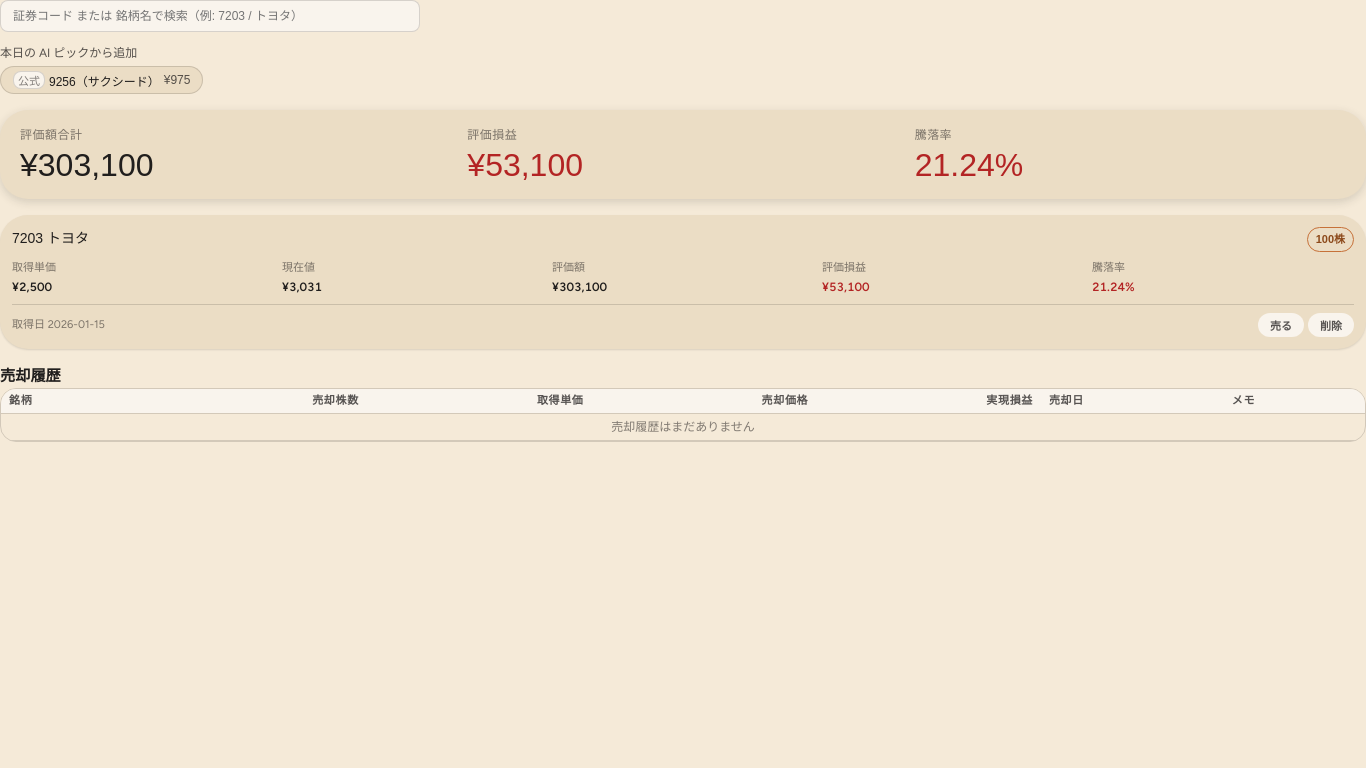
Test: PortfolioOverview › AIピックから選択すると推奨買値を取得単価の初期値にしたポップアップを開く
Step 1. Click the button "公式 9256（サクシード） ¥975" → [102, 80], box x1=0 y1=66 x2=203 y2=94
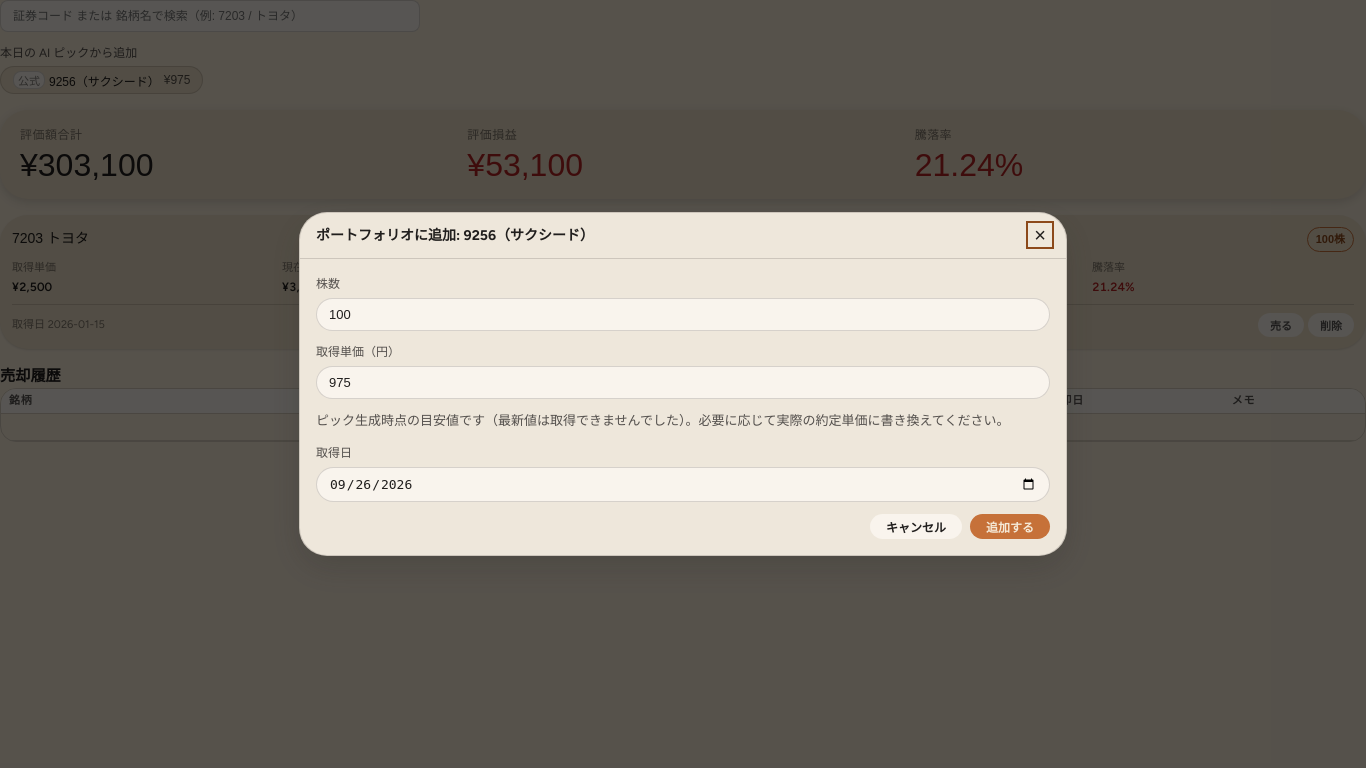
Result: the heading "ポートフォリオに追加: 9256（サクシード）" is shown at x1=316 y1=225 x2=594 y2=246
Result: the number field labelled "取得単価（円）" holds "975" at x1=316 y1=366 x2=1050 y2=399
